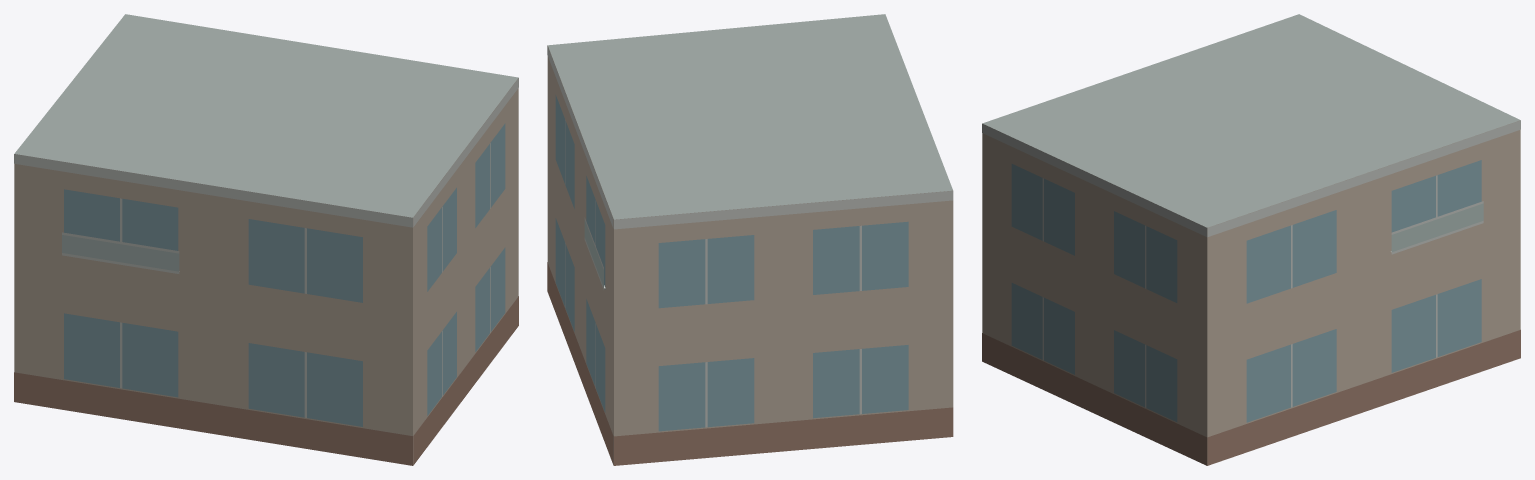
Rendered from survey-upis-32889507.glb.
3 views of the same model, side by side, from view 1: azimuth 30°, elevation 25°; view 2: azimuth 150°, elevation 25°; view 3: azimuth 270°, elevation 25° (orthographic). The views are drawn at different scales.
Visible parts, largest first — view 1: survey-upis-32889507.tmp; view 2: survey-upis-32889507.tmp; view 3: survey-upis-32889507.tmp.
Boxes of the visible parts, x1,y1,x2,y2 form: survey-upis-32889507.tmp: (14,14,518,465); survey-upis-32889507.tmp: (547,14,953,465); survey-upis-32889507.tmp: (982,14,1520,465).
Bounding box in the file's own units: 11.76 × 6.1 × 12.52.
